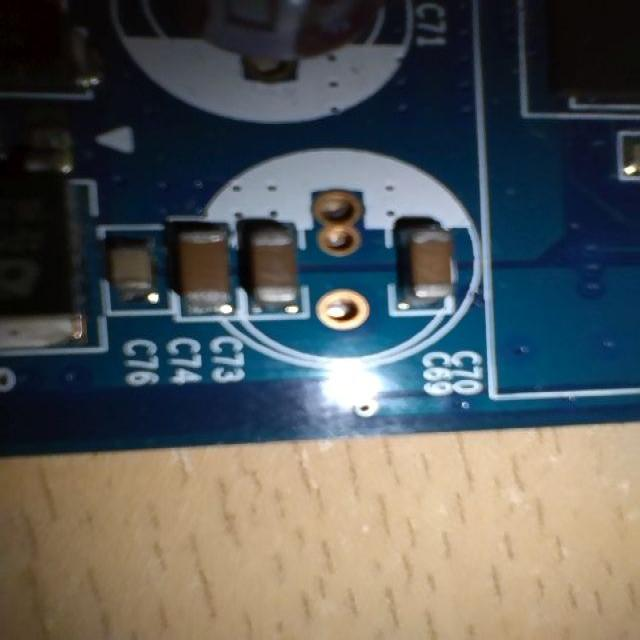capacitor: (164, 219, 246, 316), (90, 238, 171, 323), (238, 221, 306, 316), (394, 218, 461, 312)
